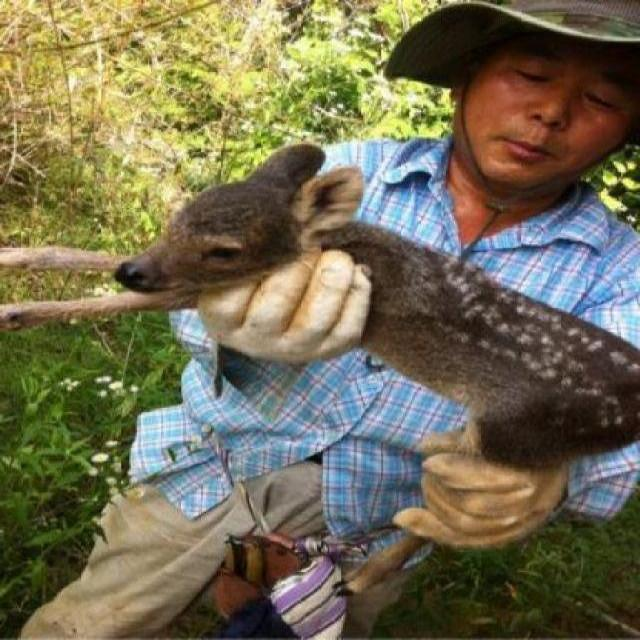deer: (96, 142, 639, 502)
